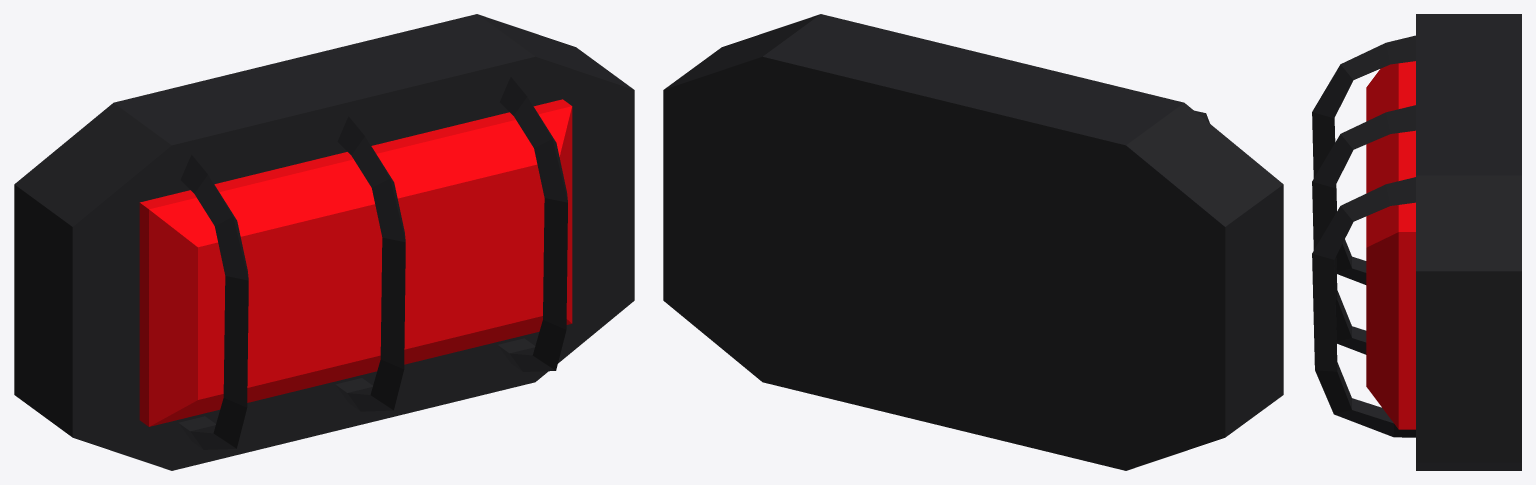
File: emergencylight.obj
3 renders of one model, left to right at view 1: azimuth 30°, elevation 25°; view 2: azimuth 150°, elevation 25°; view 3: azimuth 270°, elevation 25°, orthographic. The views are drawn at different scales.
Parts seen in each view (by area): view 1: Cube.005_Cube.006; view 2: Cube.005_Cube.006; view 3: Cube.005_Cube.006.
Boxes of the visible parts, <box> form: Cube.005_Cube.006: <box>14,14,634,470</box>; Cube.005_Cube.006: <box>663,14,1283,470</box>; Cube.005_Cube.006: <box>1312,14,1521,470</box>.
Bounding box in the file's own units: 0.817 × 0.4523 × 0.2909.
